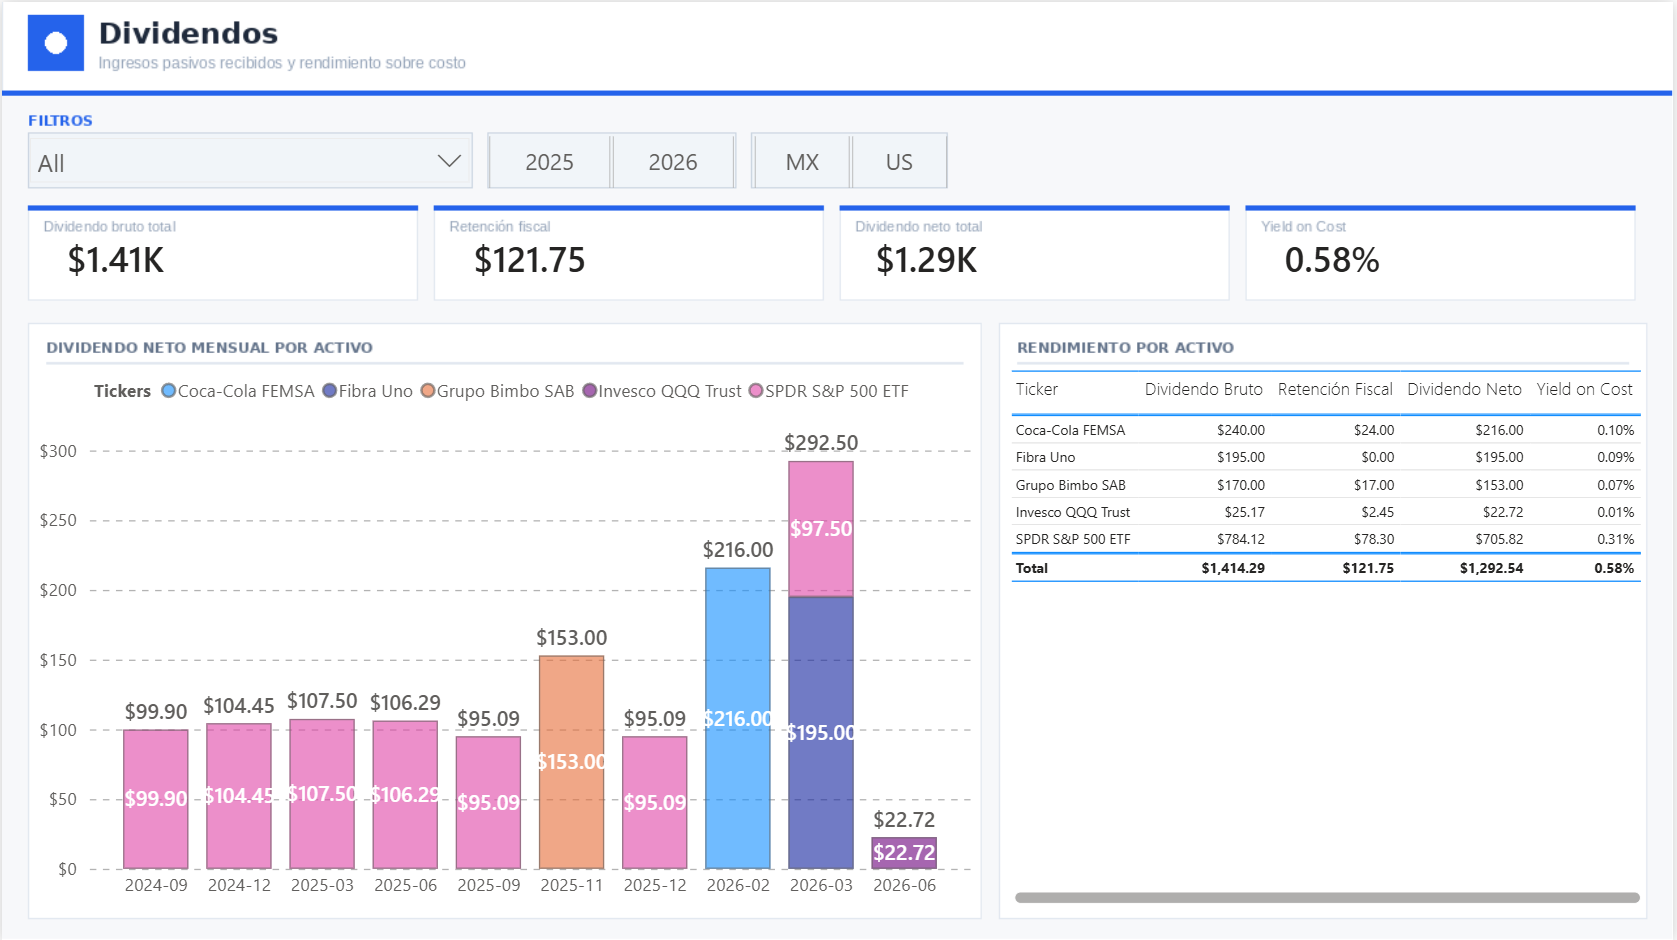

The page's visual inventory and layout, read from the dashboard file:
{"tool":"powerbi","page":{"name":"Dividendos","canvas":[1280,720],"ordinal":2},"visuals":[{"type":"cardVisual","title":"Dividendo bruto total","fields":{"Data":["Fact_Dividends.Dividendo Bruto MXN"]},"box":[20.4,159.2,296.7,72.6],"z":0},{"type":"columnChart","title":"Dividendo neto mensual por activo","fields":{"Category":["Calendar.YearMonth"],"Series":["Fact_Dividends.AssetName"],"Y":["Fact_Dividends.Dividendo Neto MXN"]},"box":[22.9,277.6,724.5,418.9],"z":1000},{"type":"slicer","title":"Año","fields":{"Values":["Calendar.Year"]},"box":[349.5,98,235,49.5],"z":2000},{"type":"cardVisual","title":"Retención fiscal","fields":{"Data":["Fact_Dividends.Retención Fiscal MXN"]},"box":[332.3,159.2,295.4,72.6],"z":3000},{"type":"tableEx","title":"Rendimiento por activo","fields":{"Values":["Fact_Dividends.AssetName","Fact_Dividends.Dividendo Bruto MXN","Fact_Dividends.Retención Fiscal MXN","Fact_Dividends.Dividendo Neto MXN","Fact_Dividends.Yield on Cost"]},"box":[767.7,277.6,492.7,418.9],"z":4000},{"type":"slicer","title":"Activo","fields":{"Values":["Fact_Dividends.AssetName"]},"box":[12,94,356.5,48.5],"z":5000},{"type":"cardVisual","title":"Dividendo neto total","fields":{"Data":["Fact_Dividends.Dividendo Neto MXN"]},"box":[640,158.6,295.7,72.9],"z":6000},{"type":"cardVisual","title":"Yield on Cost","fields":{"Data":["Fact_Dividends.Yield on Cost"]},"box":[954.3,158.6,295.7,72.9],"z":7000},{"type":"slicer","title":"Mercado","fields":{"Values":["Fact_Dividends.Market"]},"box":[552.5,98,195,49.5],"z":8000}]}

Visuals, with their boxes in screenshot pixels (x1, y1, x2, y2), scaled from the page's 1280x720 canvas onto the 1677x940 screenshot:
"Dividendo bruto total" cardVisual: left=27, top=208, right=415, bottom=303
"Dividendo neto mensual por activo" columnChart: left=30, top=362, right=979, bottom=909
"Año" slicer: left=458, top=128, right=766, bottom=193
"Retención fiscal" cardVisual: left=435, top=208, right=822, bottom=303
"Rendimiento por activo" tableEx: left=1006, top=362, right=1651, bottom=909
"Activo" slicer: left=16, top=123, right=483, bottom=186
"Dividendo neto total" cardVisual: left=838, top=207, right=1226, bottom=302
"Yield on Cost" cardVisual: left=1250, top=207, right=1638, bottom=302
"Mercado" slicer: left=724, top=128, right=979, bottom=193
